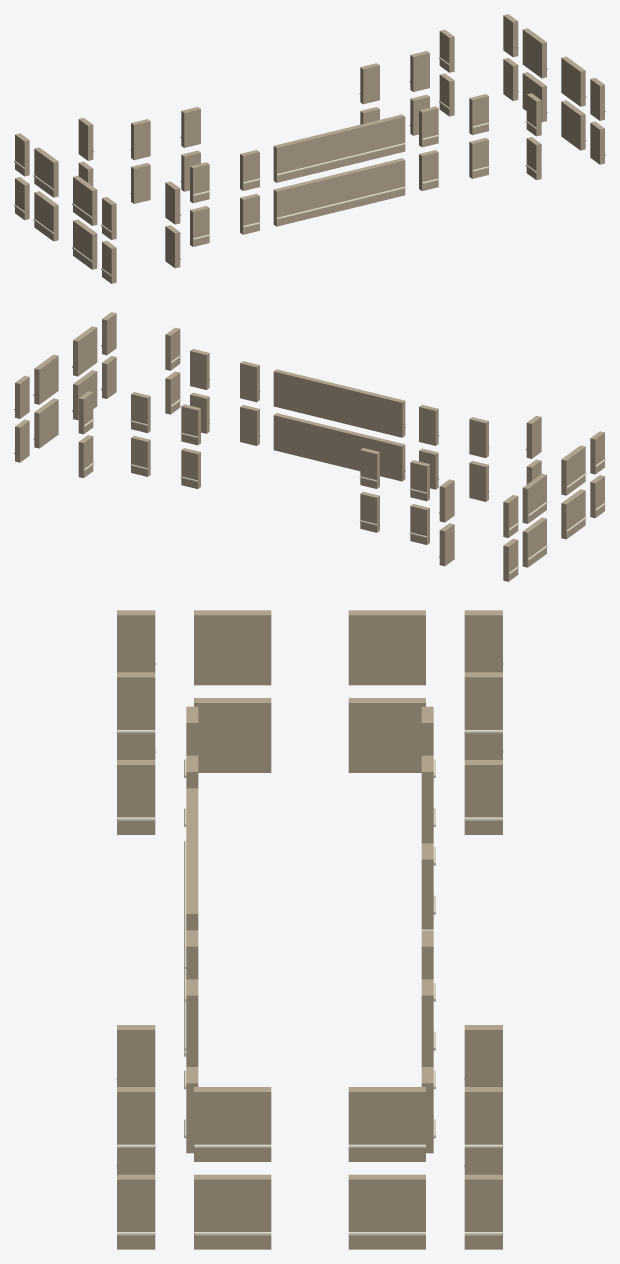
File: SM_BlankWalls.glb
The picture shows the model from 3 angles, top to bottom: view 1: azimuth 30°, elevation 25°; view 2: azimuth 150°, elevation 25°; view 3: azimuth 270°, elevation 25°; orthographic projection. The views are drawn at different scales.
Visible parts, largest first — view 1: BaseWall.001; view 2: BaseWall.001; view 3: BaseWall.001.
Part boxes in pixels (x1,y1,x2,y2): BaseWall.001: (14,14,605,283); BaseWall.001: (14,312,605,581); BaseWall.001: (116,610,503,1249).
Bounding box in the file's own units: 59.25 × 9 × 20.01.
